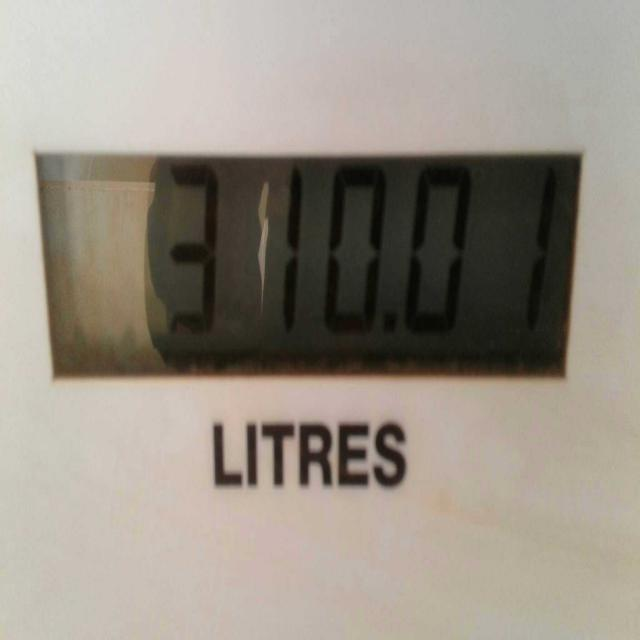.: (380, 308, 403, 342)
0: (408, 154, 478, 358), (324, 163, 386, 342)
1: (518, 159, 570, 365), (272, 162, 319, 345)
3: (159, 156, 229, 344)
screen: (30, 150, 585, 384)
